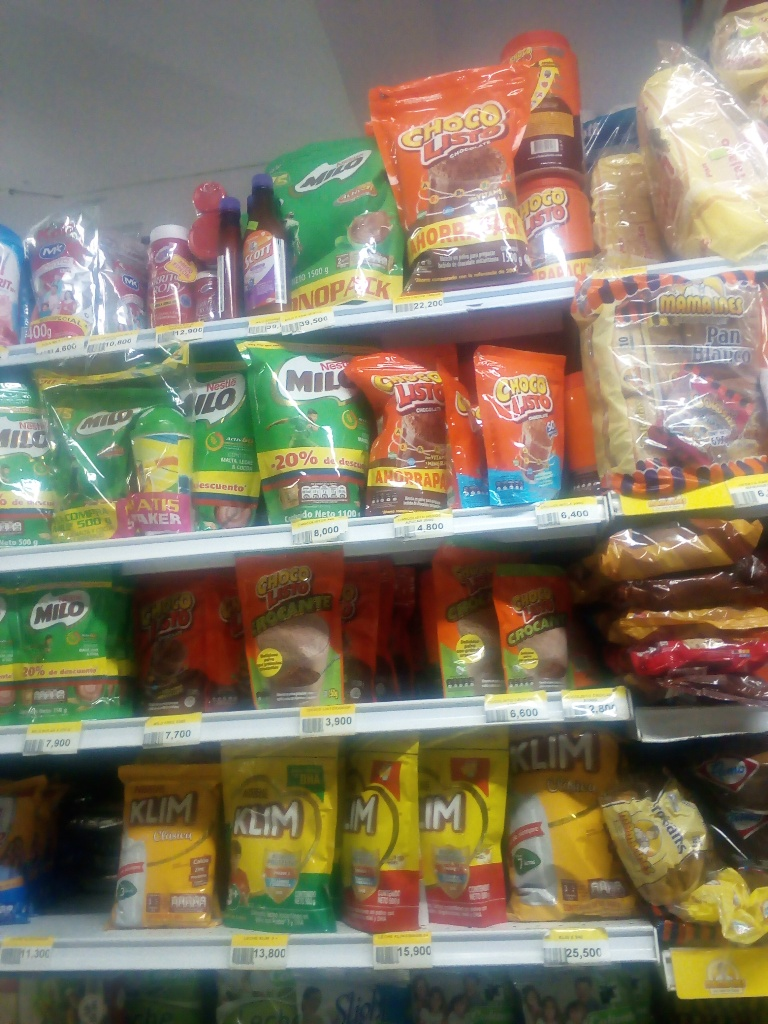COL0170102DYP10000: (494, 563, 583, 692)
COL0170102DYP25000: (227, 553, 347, 708)
COL0170103DYP1,500: (373, 68, 527, 283)
COL0170103DYP20000: (135, 570, 206, 712)
COL0170103DYP44000: (349, 348, 458, 516)
COL0170103TRR00100: (497, 30, 590, 181)
COL0170104DYP20000: (472, 348, 574, 506)
COL0170203DYP25000: (0, 570, 122, 726)
COL0170203DYP50000: (40, 370, 131, 544)
